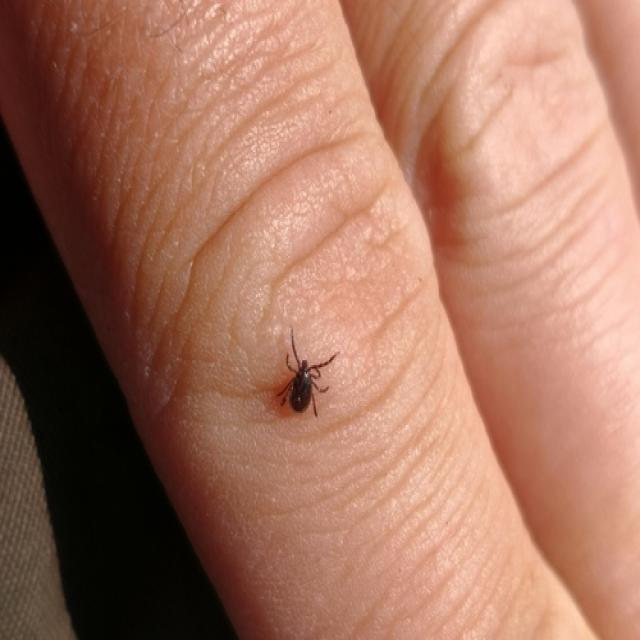Ixodes Ricinus-M: (274, 329, 339, 422)
